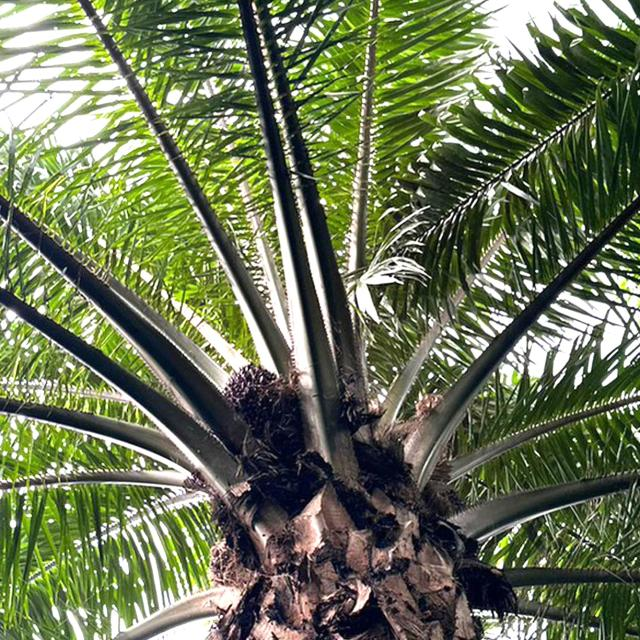ripe: (216, 354, 288, 418)
